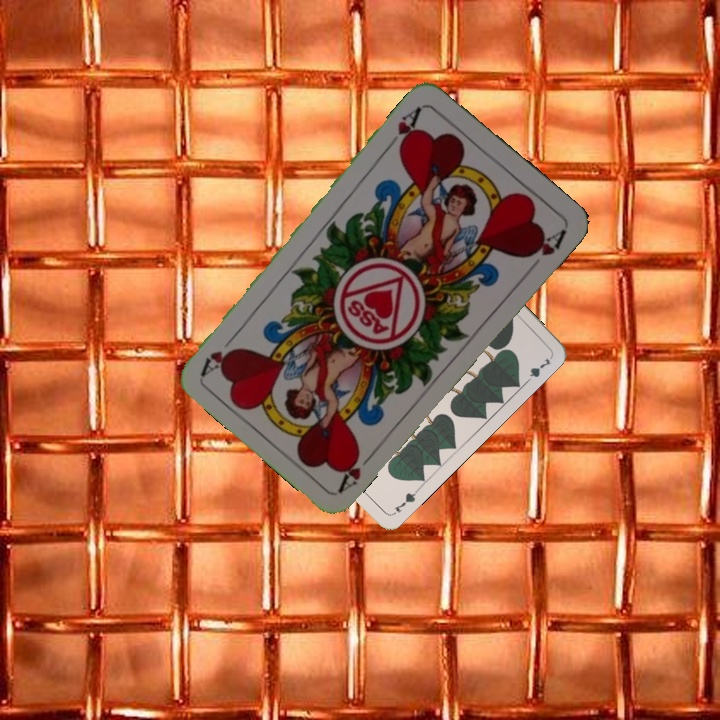G7: (388, 486, 421, 518)
HA: (334, 445, 380, 494), (383, 102, 425, 155)
